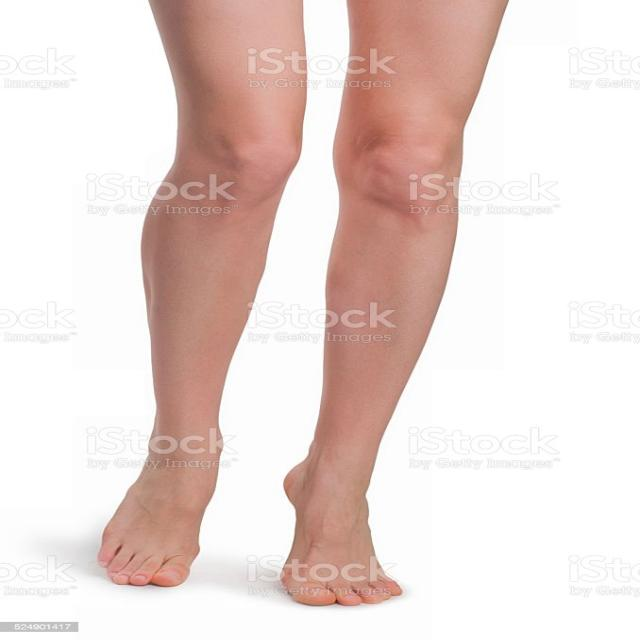Normal: (125, 128, 493, 466)
